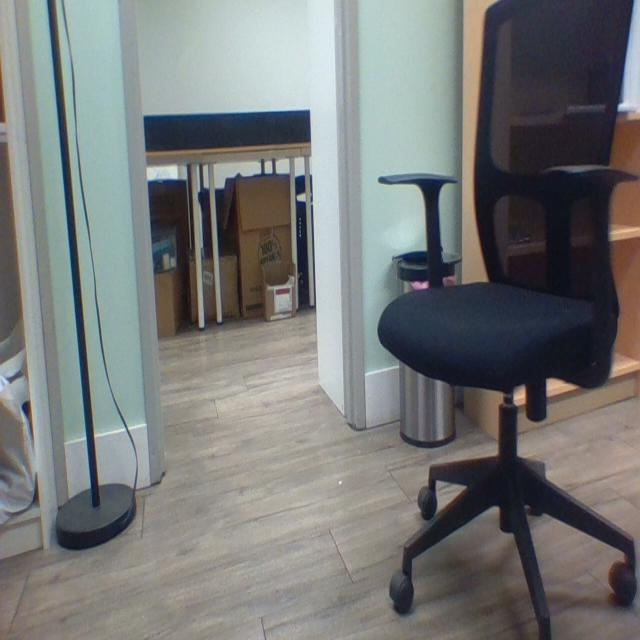black-chair: (378, 0, 640, 639)
